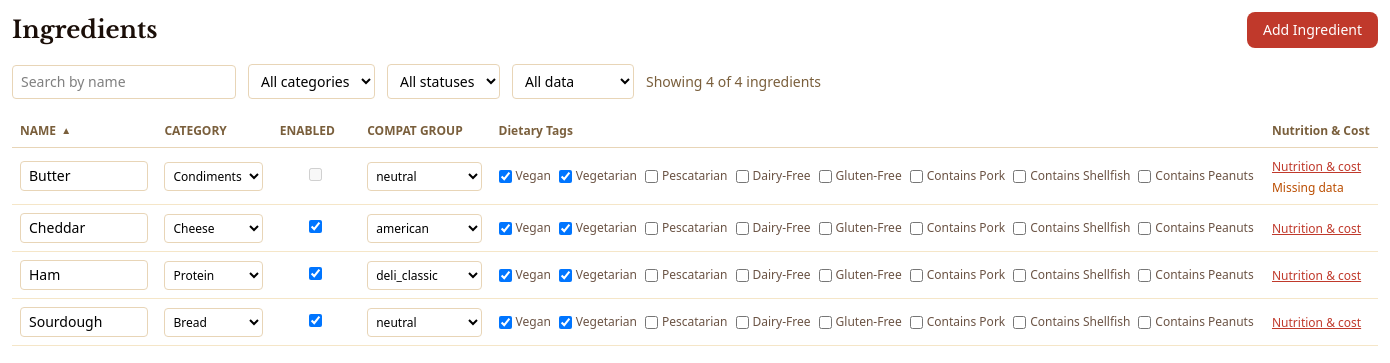
Test: IngredientsPage › sorting and filtering › says so when nothing matches and offers to clear the filters
This screenshot has width=1390, height=363.
Expected: the field showing "Sourdough" is shown, x1=20 y1=307 x2=148 y2=337
In the search field named "Search ingredients": (124, 82) x1=12 y1=64 x2=236 y2=98, type "zzz"
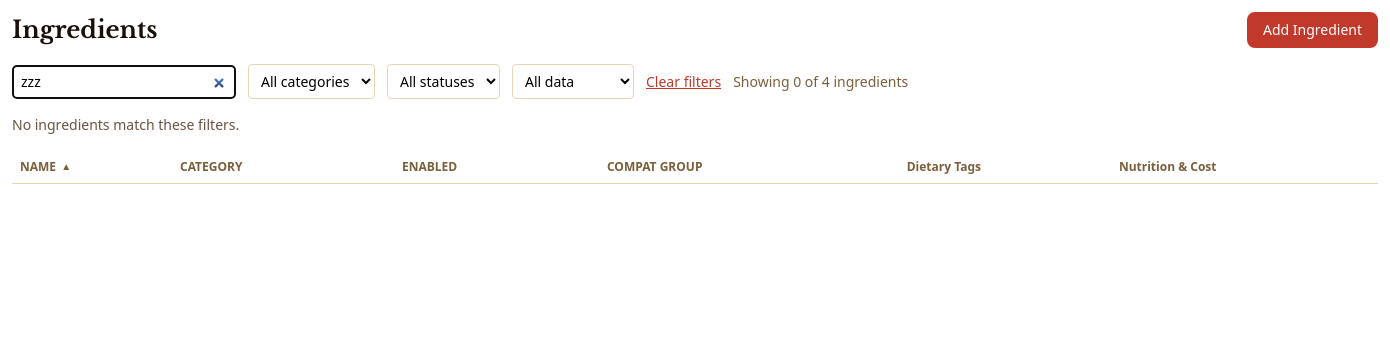
Expected: the text "No ingredients match these filters." is shown, x1=12 y1=115 x2=239 y2=134
Click the button "Clear filters": (684, 82) x1=646 y1=72 x2=721 y2=92
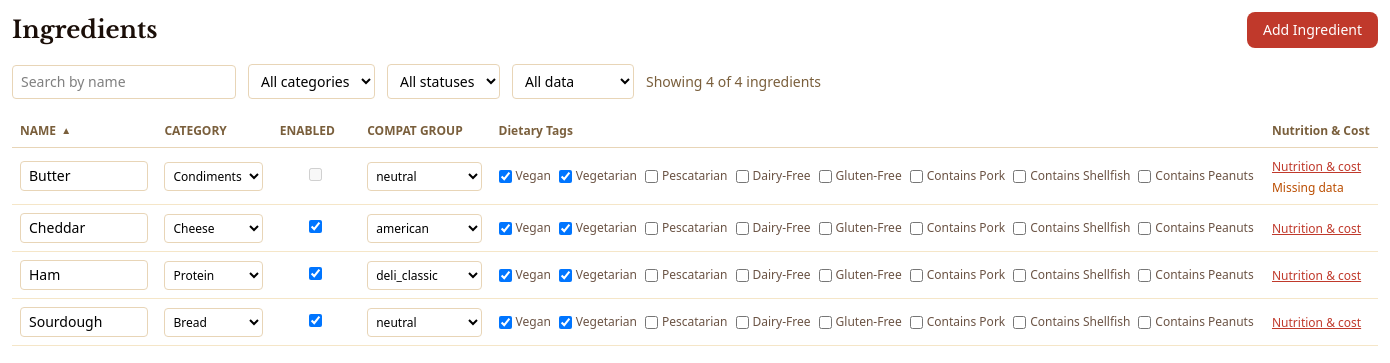
Expected: the search field named "Search ingredients" is empty, x1=12 y1=64 x2=236 y2=98
